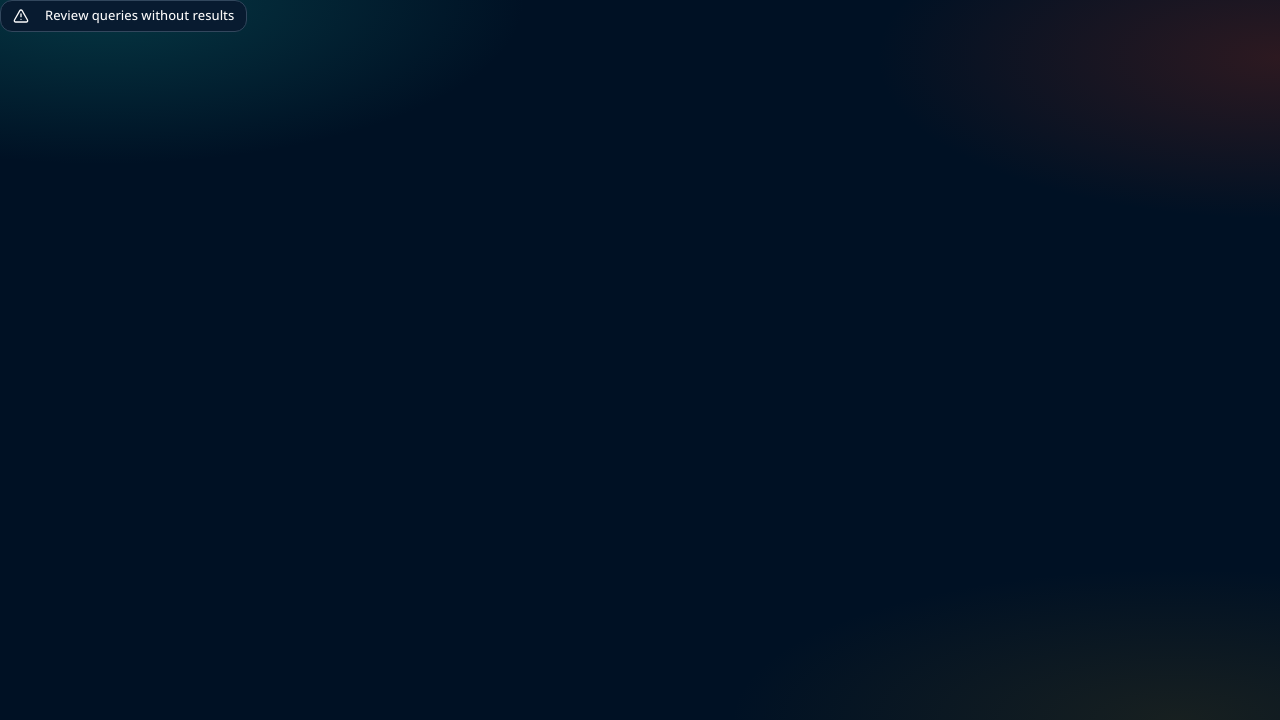
Test: SERP exclusion review › requires explicit approval of the full affected scope before resuming the saved run
Later steps or results of the test are not shown.
Click the button "Review queries without results": (124, 16) [0,0,247,32]
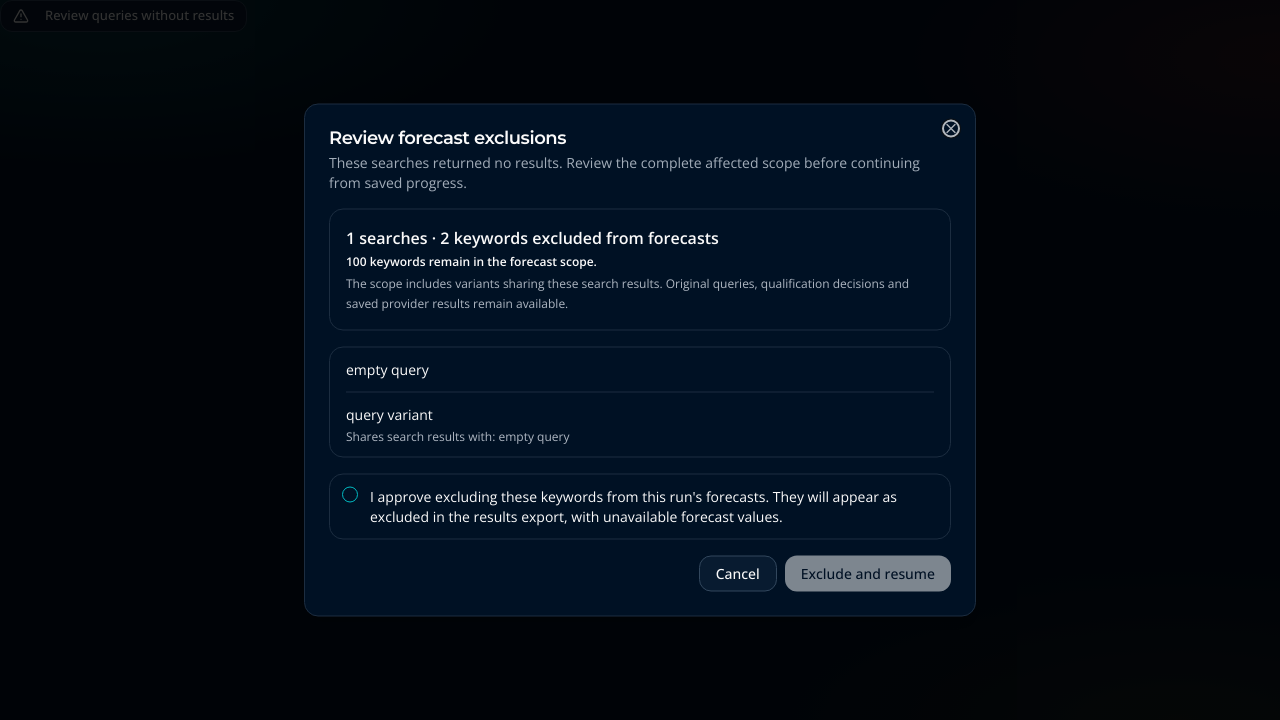
Now the text "1 searches · 2 keywords excluded from forecasts" is shown, box [346,226,719,248]
Now the text "Shares search results with: empty query" is shown, box [346,428,569,444]
Now the button "Exclude and resume" is disabled, box [785,556,951,592]
